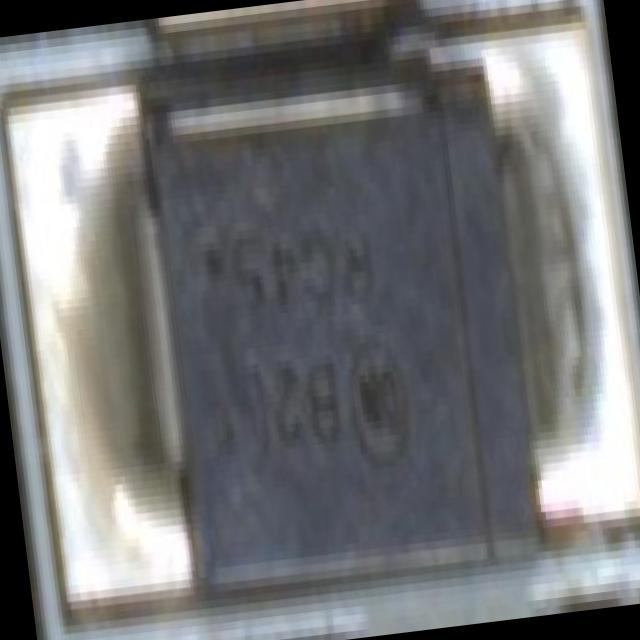diode: (92, 0, 580, 640)
